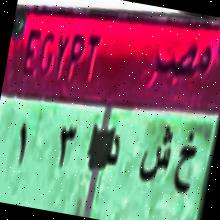1: (12, 120, 32, 172)
3: (50, 114, 81, 183)
daal: (102, 126, 126, 174)
khaa: (168, 127, 202, 205)
sheen: (135, 118, 178, 193)
